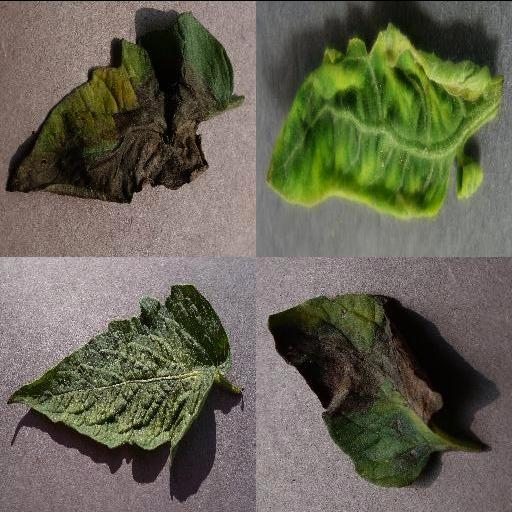Late Blight: (5, 6, 237, 204), (266, 292, 446, 486)
Spider Mites: (5, 283, 231, 449)
Yellow Leaf Curl Virus: (263, 19, 503, 214)
